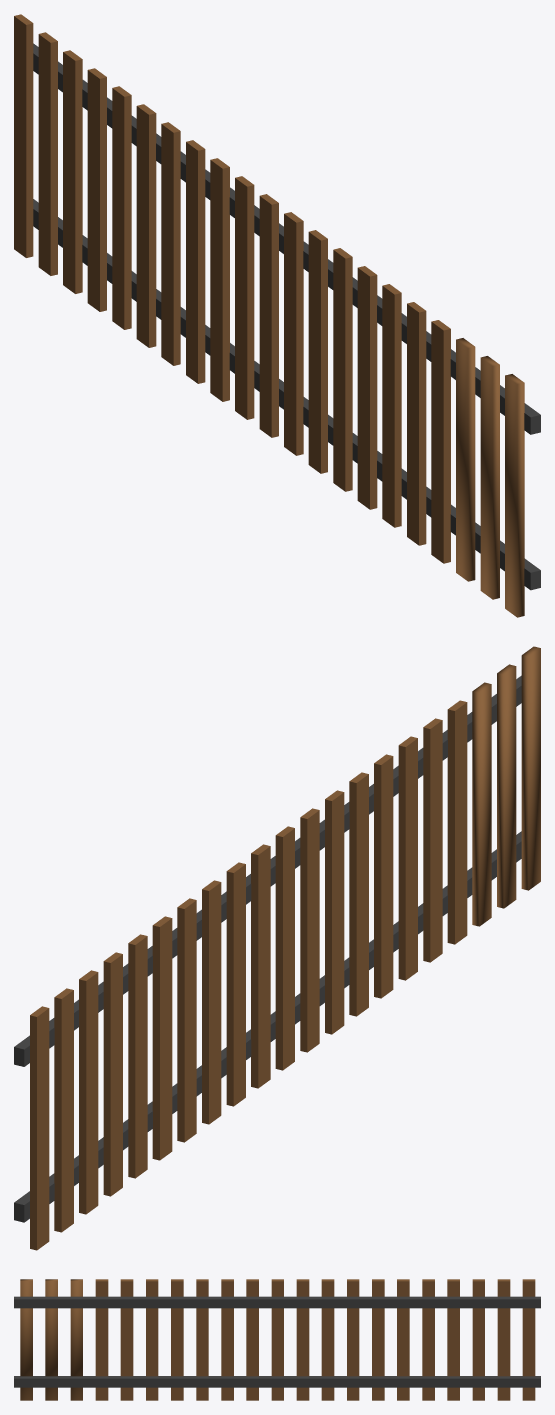
The model's file is RailBroke (1).fbx.
The picture shows the model from 3 angles, top to bottom: view 1: azimuth 30°, elevation 25°; view 2: azimuth 150°, elevation 25°; view 3: azimuth 270°, elevation 25°; orthographic projection. The views are drawn at different scales.
Parts seen in each view (by area): view 1: Rail_fracturepart, Rail_fracturepart_2, Rail_fracturepart_3, Rail_fracturepart4_7, Rail_fracturepart2_4, Rail_fracturepart4_8, Rail_fracturepart4_6, Rail_fracturepart8_5, Rail_fracturepart8_6, Rail_fracturepart8_4, Rail_fracturepart10_2, Rail_fracturepart8_7 (+32 smaller); view 2: Rail_fracturepart, Rail_fracturepart_2, Rail_fracturepart_3, Rail_fracturepart4_8, Rail_fracturepart4_7, Rail_fracturepart2_4, Rail_fracturepart4_6, Rail_fracturepart8_5, Rail_fracturepart8_6, Rail_fracturepart8_4, Rail_fracturepart8_7, Rail_fracturepart10_3 (+29 smaller); view 3: Rail_fracturepart8, Rail_fracturepart4, Rail_fracturepart2_2, Rail_fracturepart4_7, Rail_fracturepart4_8, Rail_fracturepart2_4, Rail_fracturepart_2, Rail_fracturepart_3, Rail_fracturepart, Rail_fracturepart5, Rail_fracturepart2, Rail_fracturepart4_6 (+44 smaller).
Part boxes in pixels (box(x1,y1,x2,y2)): Rail_fracturepart: box(456, 338, 475, 581); Rail_fracturepart_2: box(480, 356, 499, 599); Rail_fracturepart_3: box(505, 374, 524, 617); Rail_fracturepart4_7: box(210, 162, 229, 401); Rail_fracturepart2_4: box(431, 320, 450, 563); Rail_fracturepart4_8: box(235, 176, 254, 414); Rail_fracturepart4_6: box(186, 182, 205, 383); Rail_fracturepart8_5: box(333, 248, 352, 423); Rail_fracturepart8_6: box(357, 266, 377, 431); Rail_fracturepart8_4: box(308, 230, 327, 403); Rail_fracturepart10_2: box(112, 98, 131, 273); Rail_fracturepart8_7: box(382, 284, 401, 439); Rail_fracturepart: box(472, 682, 491, 926); Rail_fracturepart_2: box(497, 664, 516, 908); Rail_fracturepart_3: box(521, 646, 540, 890); Rail_fracturepart4_8: box(251, 844, 270, 1088); Rail_fracturepart4_7: box(226, 862, 245, 1106); Rail_fracturepart2_4: box(447, 700, 467, 938); Rail_fracturepart4_6: box(202, 916, 221, 1124); Rail_fracturepart8_5: box(349, 772, 368, 953); Rail_fracturepart8_6: box(374, 754, 393, 925); Rail_fracturepart8_4: box(325, 790, 344, 954); Rail_fracturepart8_7: box(398, 736, 417, 897); Rail_fracturepart10_3: box(152, 916, 172, 1076); Rail_fracturepart8: box(123, 1296, 276, 1308); Rail_fracturepart4: box(291, 1376, 425, 1387); Rail_fracturepart2_2: box(14, 1296, 123, 1308); Rail_fracturepart4_7: box(321, 1279, 334, 1400); Rail_fracturepart4_8: box(296, 1279, 309, 1400); Rail_fracturepart2_4: box(95, 1279, 108, 1400); Rail_fracturepart_2: box(45, 1279, 57, 1400); Rail_fracturepart_3: box(20, 1279, 32, 1400); Rail_fracturepart: box(70, 1279, 82, 1400); Rail_fracturepart5: box(108, 1376, 208, 1387); Rail_fracturepart2: box(14, 1376, 112, 1387); Rail_fracturepart4_6: box(347, 1308, 359, 1400).
Bounding box in the file's own units: 19.57 × 250 × 1000.
1 material, 1 textured.
